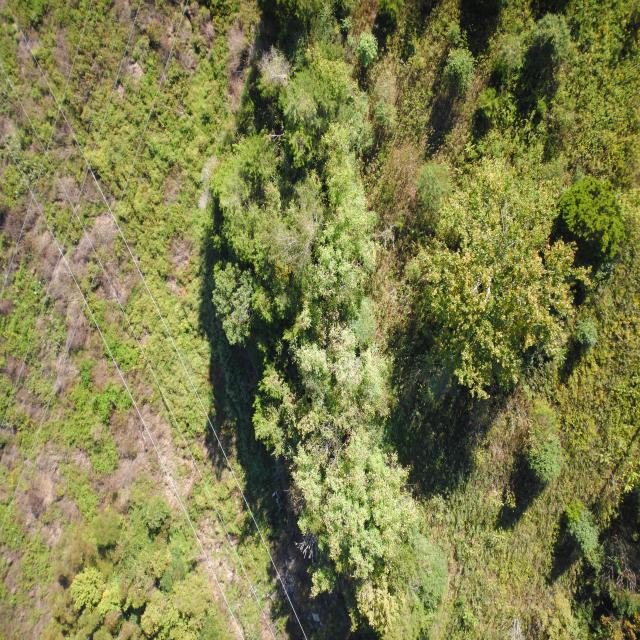Area of Interest: (215, 35, 401, 636)
